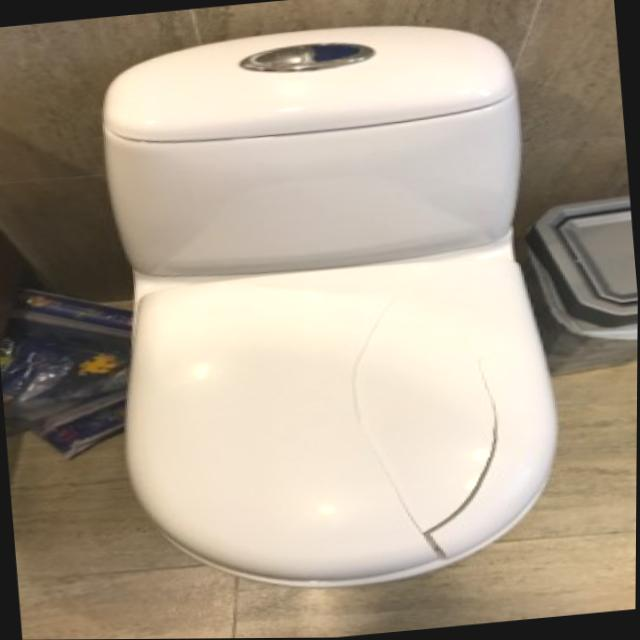toilet: (85, 8, 574, 607)
